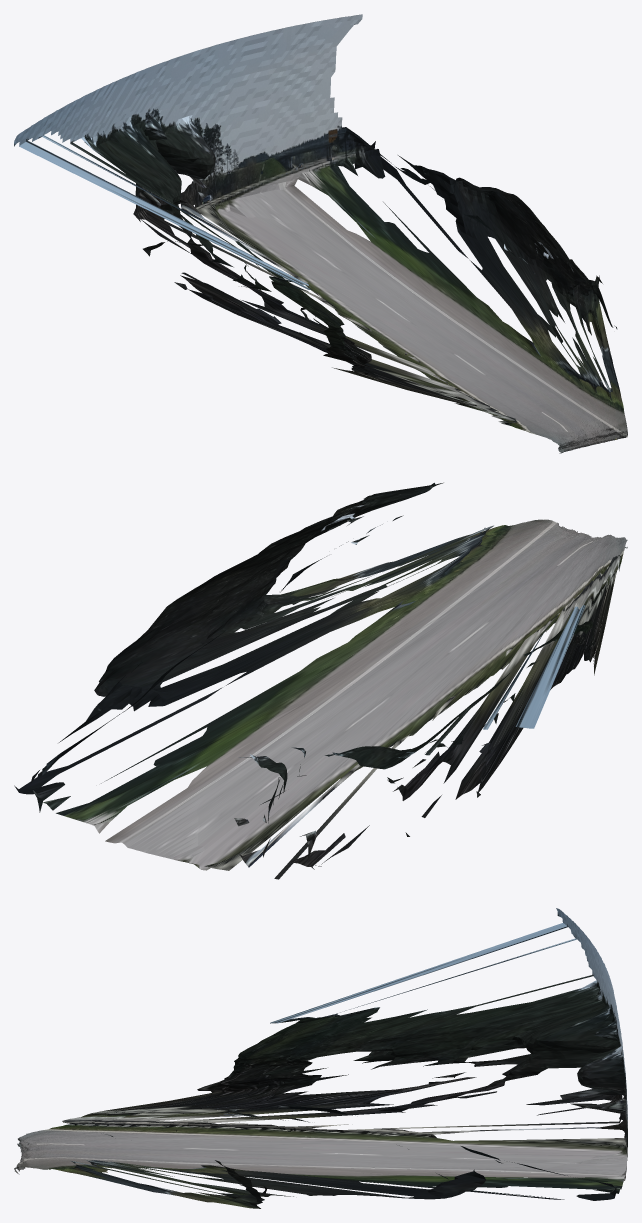
The picture shows the model from 3 angles, top to bottom: view 1: azimuth 30°, elevation 25°; view 2: azimuth 150°, elevation 25°; view 3: azimuth 270°, elevation 25°; orthographic projection. The views are drawn at different scales.
Parts seen in each view (by area): view 1: defaultobject; view 2: defaultobject; view 3: defaultobject.
Boxes of the visible parts, x1,y1,x2,y2 form: defaultobject: (14,14,627,453); defaultobject: (14,482,627,879); defaultobject: (14,908,627,1208).
Bounding box in the file's own units: 30.85 × 12.08 × 44.52.
1 material, 1 textured.
